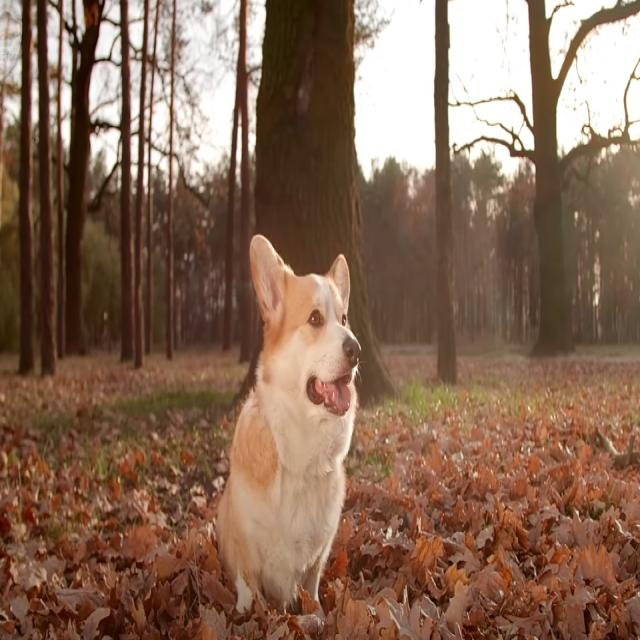Dog: (214, 235, 361, 622)
